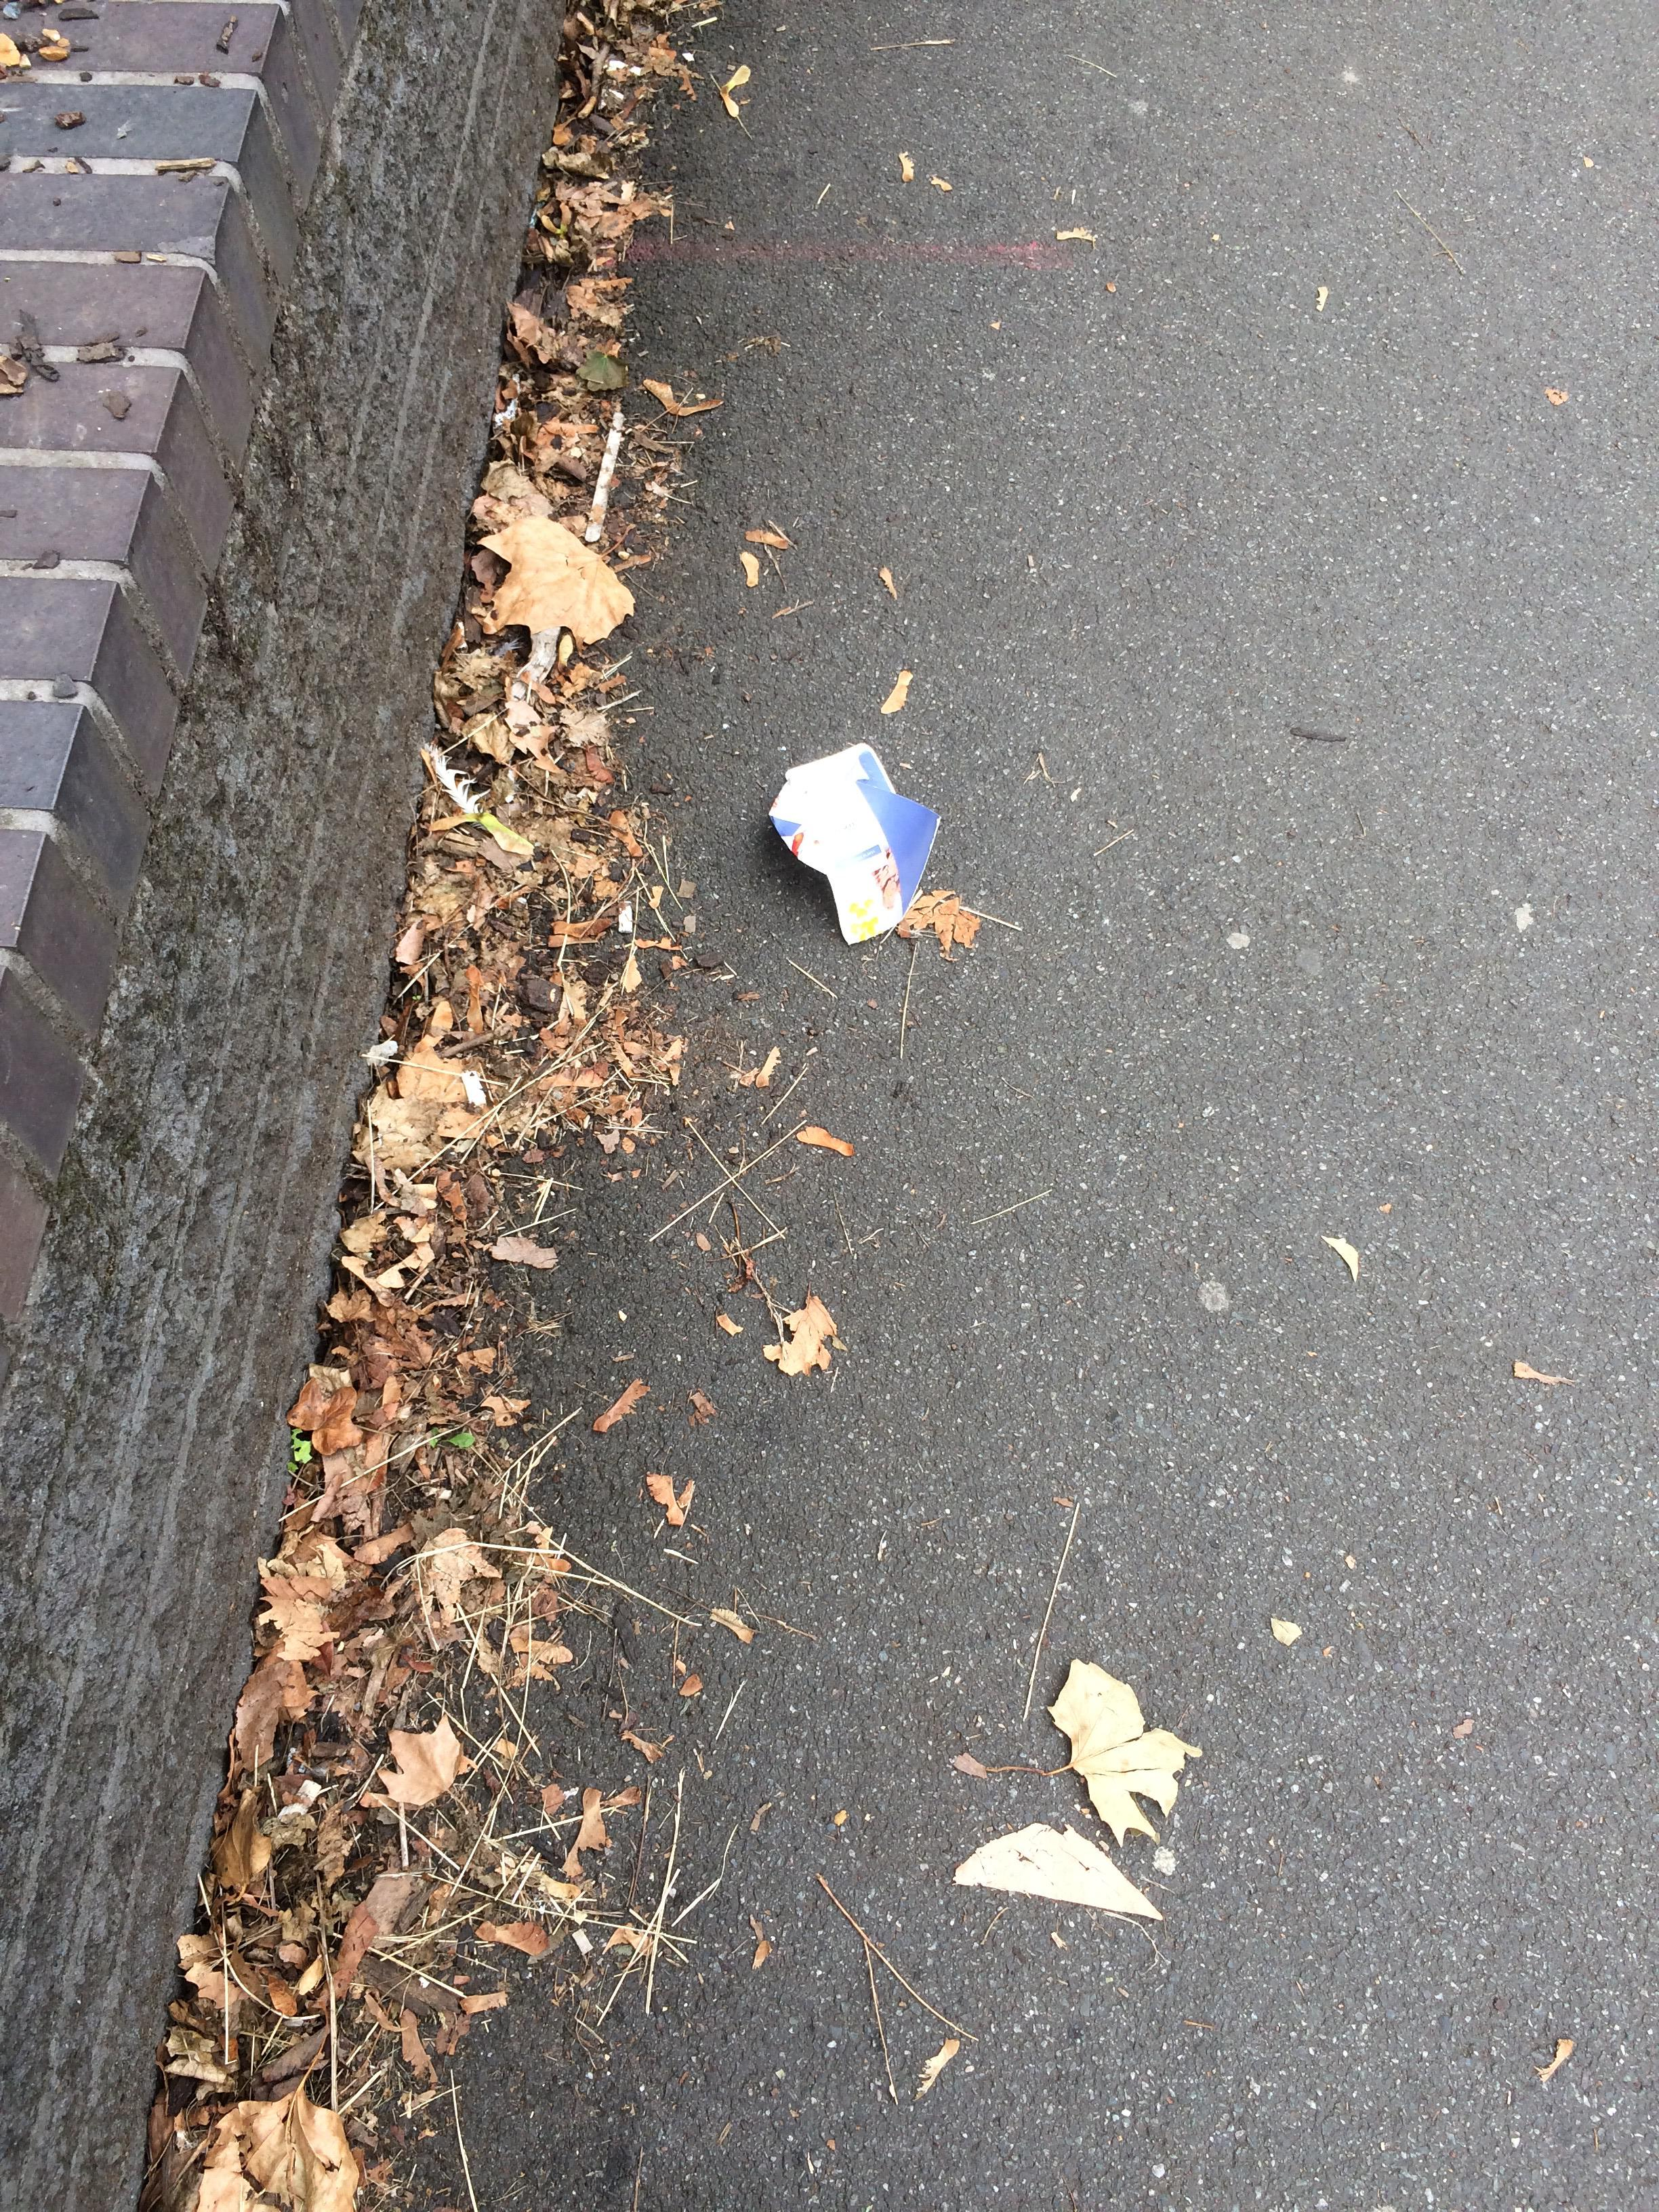Trash: (765, 709, 945, 953)
